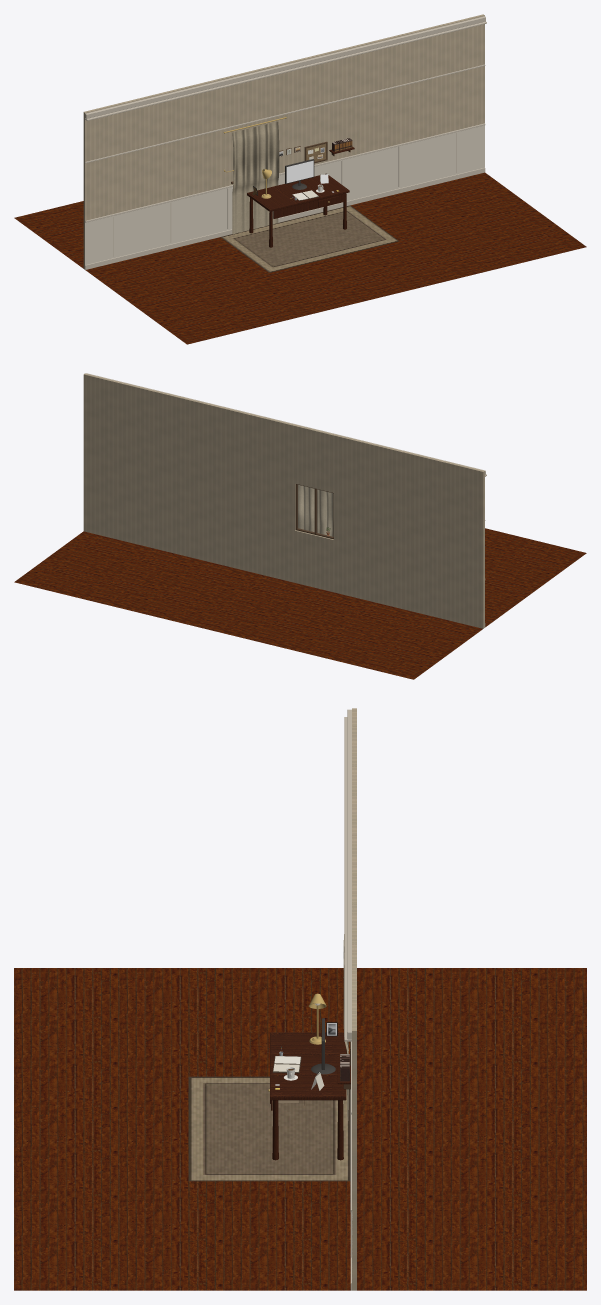
File: desk.glb
The picture shows the model from 3 angles, top to bottom: view 1: azimuth 30°, elevation 25°; view 2: azimuth 150°, elevation 25°; view 3: azimuth 270°, elevation 25°; orthographic projection. The views are drawn at different scales.
Visible parts, largest first — view 1: decor_floor, decor_wall_r, decor_wall_l, decor_wainscot_panel, decor_rug, decor_curtain, decor_cornice, decor_skirting, decor_wall_t, desk_top, decor_cornice_lip, decor_chair_rail (+2 smaller); view 2: decor_wall_r, decor_floor, decor_wall_l, decor_wall_t, decor_wall_b, decor_curtain, decor_cornice; view 3: decor_floor, decor_rug, desk_top, decor_wall_r, decor_cornice, decor_cornice_lip.
Part boxes in pixels (<box>): decor_floor: <box>14,172,586,344</box>; decor_wall_r: <box>272,14,484,173</box>; decor_wall_l: <box>83,75,234,269</box>; decor_wainscot_panel: <box>85,125,484,264</box>; decor_rug: <box>221,205,398,272</box>; decor_curtain: <box>232,121,279,234</box>; decor_cornice: <box>85,16,485,118</box>; decor_skirting: <box>85,167,485,269</box>; decor_wall_t: <box>233,66,273,131</box>; desk_top: <box>247,173,349,211</box>; decor_cornice_lip: <box>85,21,486,120</box>; decor_chair_rail: <box>85,123,485,222</box>; decor_wall_r: <box>83,373,295,582</box>; decor_floor: <box>14,528,586,679</box>; decor_wall_l: <box>334,434,484,628</box>; decor_wall_t: <box>295,425,334,492</box>; decor_wall_b: <box>295,530,333,592</box>; decor_curtain: <box>298,484,333,536</box>; decor_cornice: <box>86,373,485,475</box>; decor_floor: <box>14,968,586,1290</box>; decor_rug: <box>188,1076,350,1181</box>; desk_top: <box>270,1032,346,1100</box>; decor_wall_r: <box>352,860,356,1290</box>; decor_cornice: <box>347,709,351,1039</box>; decor_cornice_lip: <box>344,717,351,1041</box>.
Size of the model in its own units: 8 by 3 by 6.
Materials: 43 (16 with a texture image).
